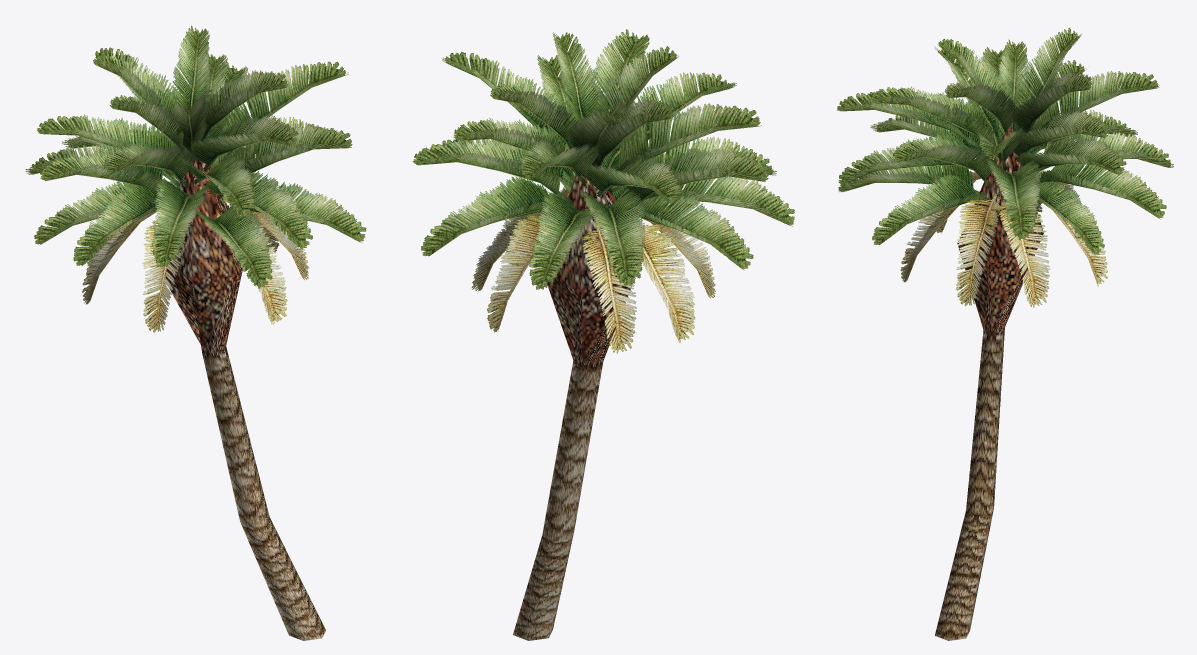
The model's file is palm_v3.glb.
3 renders of one model, left to right at view 1: azimuth 30°, elevation 25°; view 2: azimuth 150°, elevation 25°; view 3: azimuth 270°, elevation 25°, orthographic. The views are drawn at different scales.
Parts seen in each view (by area): view 1: tree_cretan_date_palm_07; view 2: tree_cretan_date_palm_07; view 3: tree_cretan_date_palm_07.
Part boxes in pixels (<box>): tree_cretan_date_palm_07: <box>25,25,366,640</box>; tree_cretan_date_palm_07: <box>412,29,794,640</box>; tree_cretan_date_palm_07: <box>837,27,1173,640</box>.
Size of the model in its own units: 1.39 by 2.42 by 1.4.
1 material, 1 textured.
